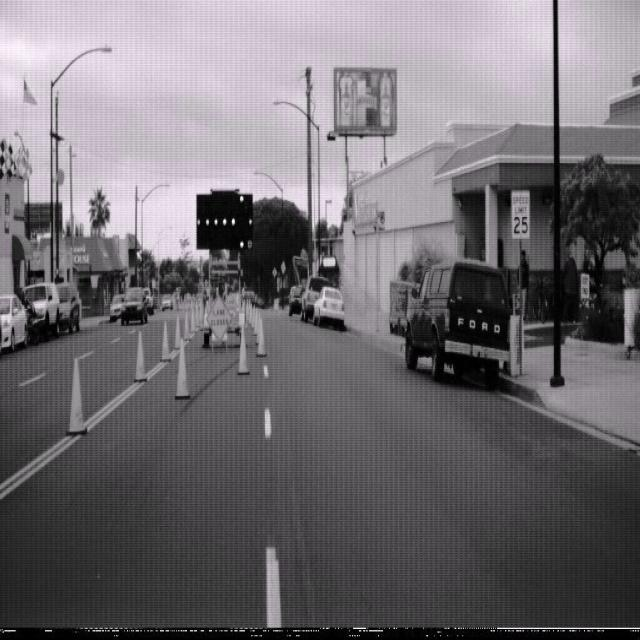speedLimit25: (510, 188, 531, 240)
